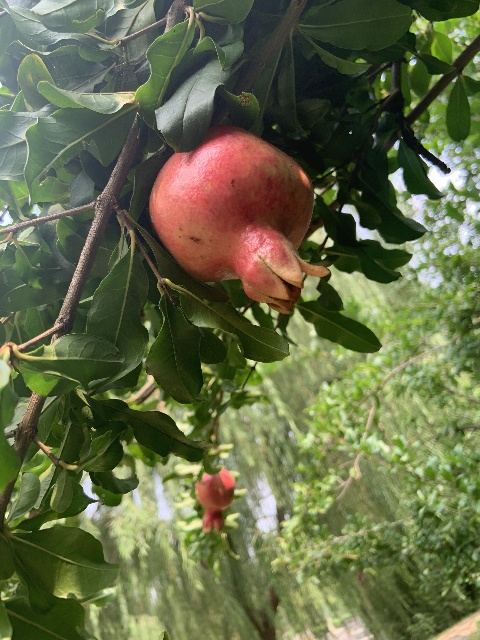ripe: (148, 125, 329, 314), (196, 469, 235, 533)
